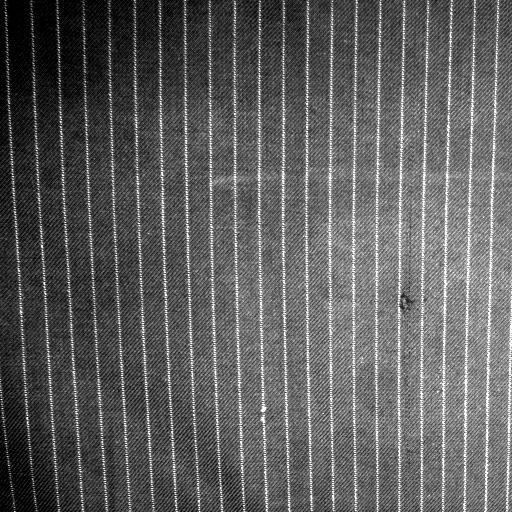fabric_hole: (396, 290, 428, 322)
